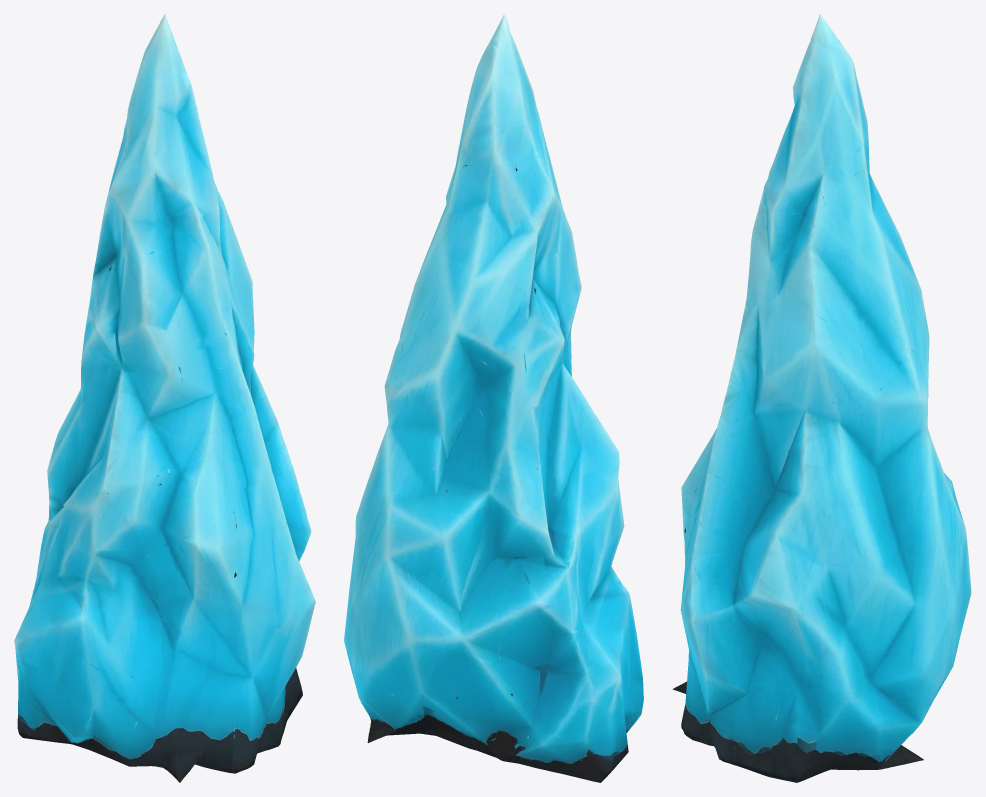
File: iceberg_tall.glb
The picture shows the model from 3 angles, left to right: view 1: azimuth 30°, elevation 25°; view 2: azimuth 150°, elevation 25°; view 3: azimuth 270°, elevation 25°; orthographic projection.
Size of the model in its own units: 0.7241 by 1.9 by 0.7178.
Materials: 1 (1 with a texture image).
